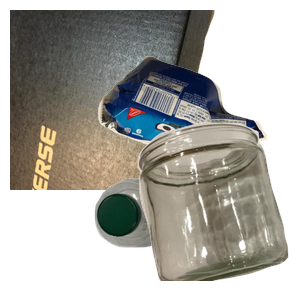cardboard: (10, 10, 217, 190)
glass: (135, 120, 300, 300)
plastic: (92, 176, 257, 300)
trash: (95, 53, 300, 195)
